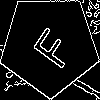F: (24, 20, 77, 72)
